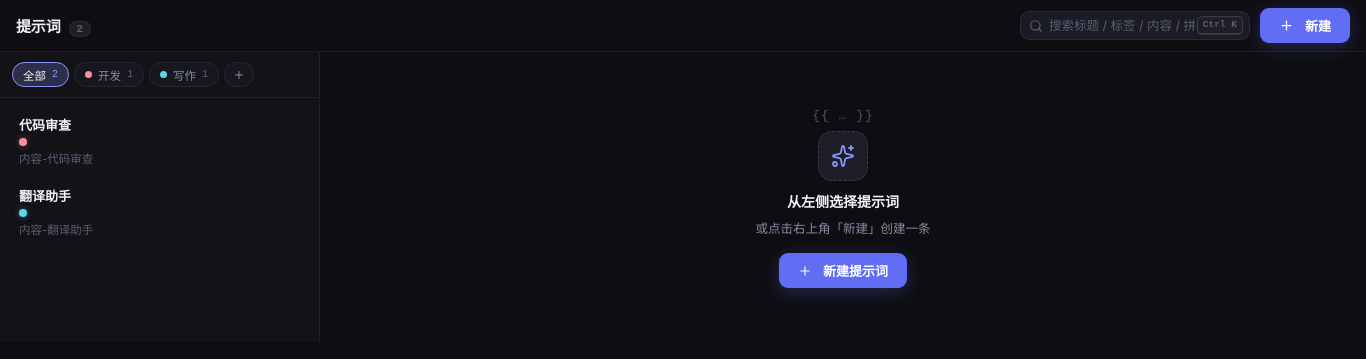
Test case: PromptsPane：提示词管理 › 搜索框过滤列表（子串），无结果显示空状态
In the field with placeholder "搜索标题 / 标签 / 内容 / 拼音…": (1135, 26) [1020,11,1250,40], type "翻译"
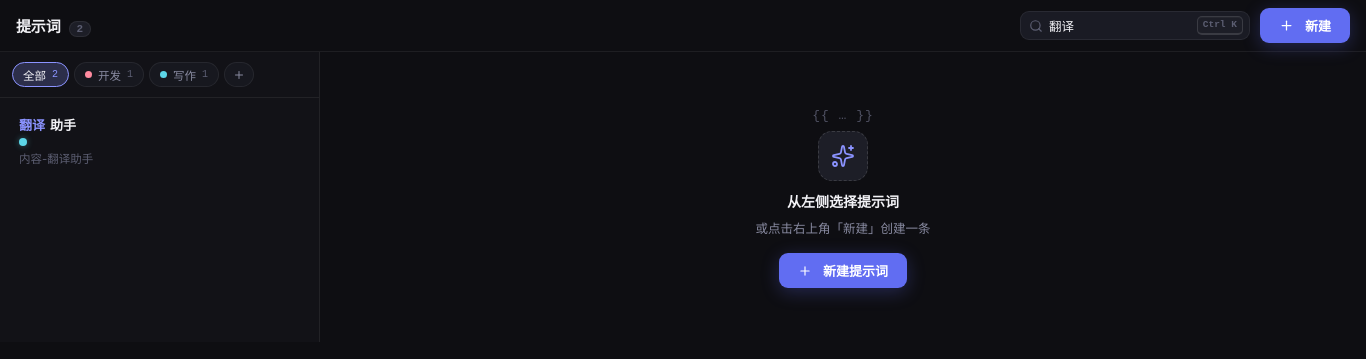
Expected: the element showing "翻译 助手" is shown, [19,117,76,133]
Replace the text in the field with "不存在的词": (1135, 26) [1020,11,1250,40]
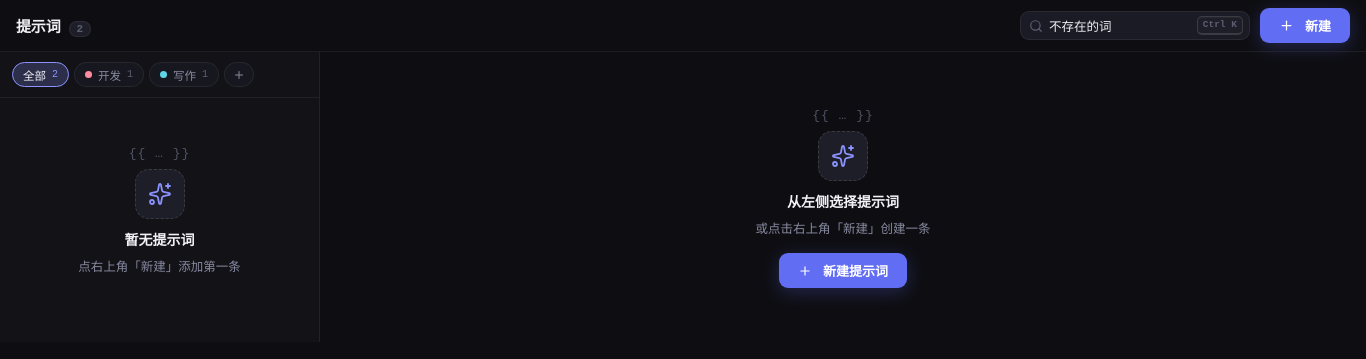
Result: the text "暂无提示词" is shown at [124,229,194,249]
